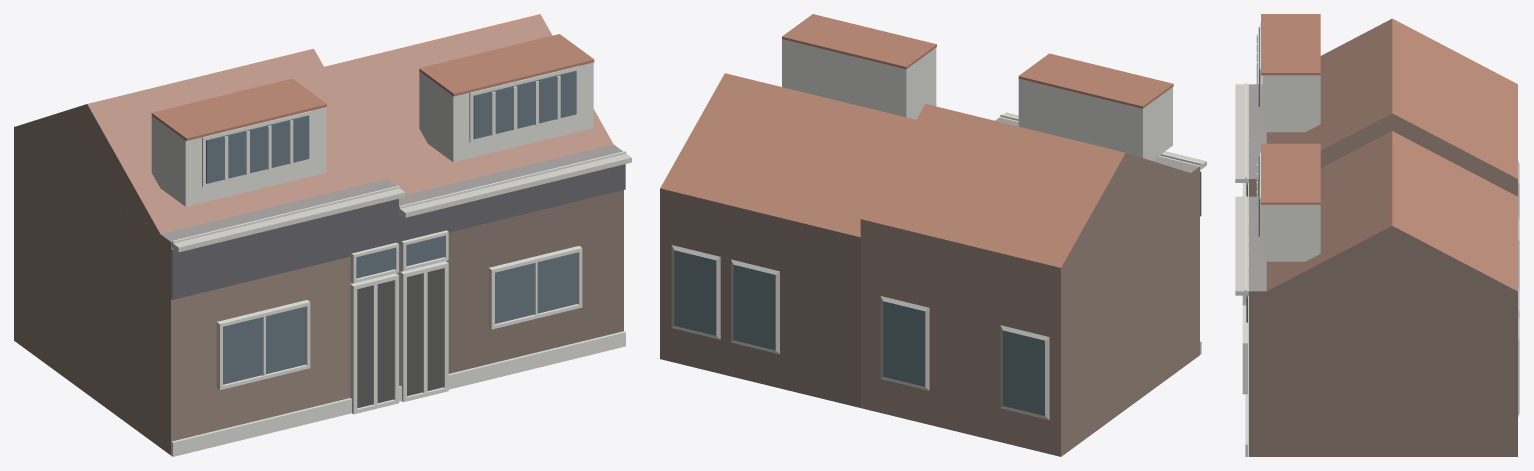
Rendered from chunk-face-zamenhof-6-12-r1.glb.
The picture shows the model from 3 angles, left to right: view 1: azimuth 30°, elevation 25°; view 2: azimuth 150°, elevation 25°; view 3: azimuth 270°, elevation 25°; orthographic projection. The views are drawn at different scales.
Parts seen in each view (by area): view 1: face-zamenhof-6-12-r1; view 2: face-zamenhof-6-12-r1; view 3: face-zamenhof-6-12-r1.
Boxes of the visible parts, x1,y1,x2,y2 form: face-zamenhof-6-12-r1: (14, 14, 631, 456); face-zamenhof-6-12-r1: (660, 14, 1206, 456); face-zamenhof-6-12-r1: (1235, 14, 1519, 456).
Bounding box in the file's own units: 10 × 6.46 × 6.34.
